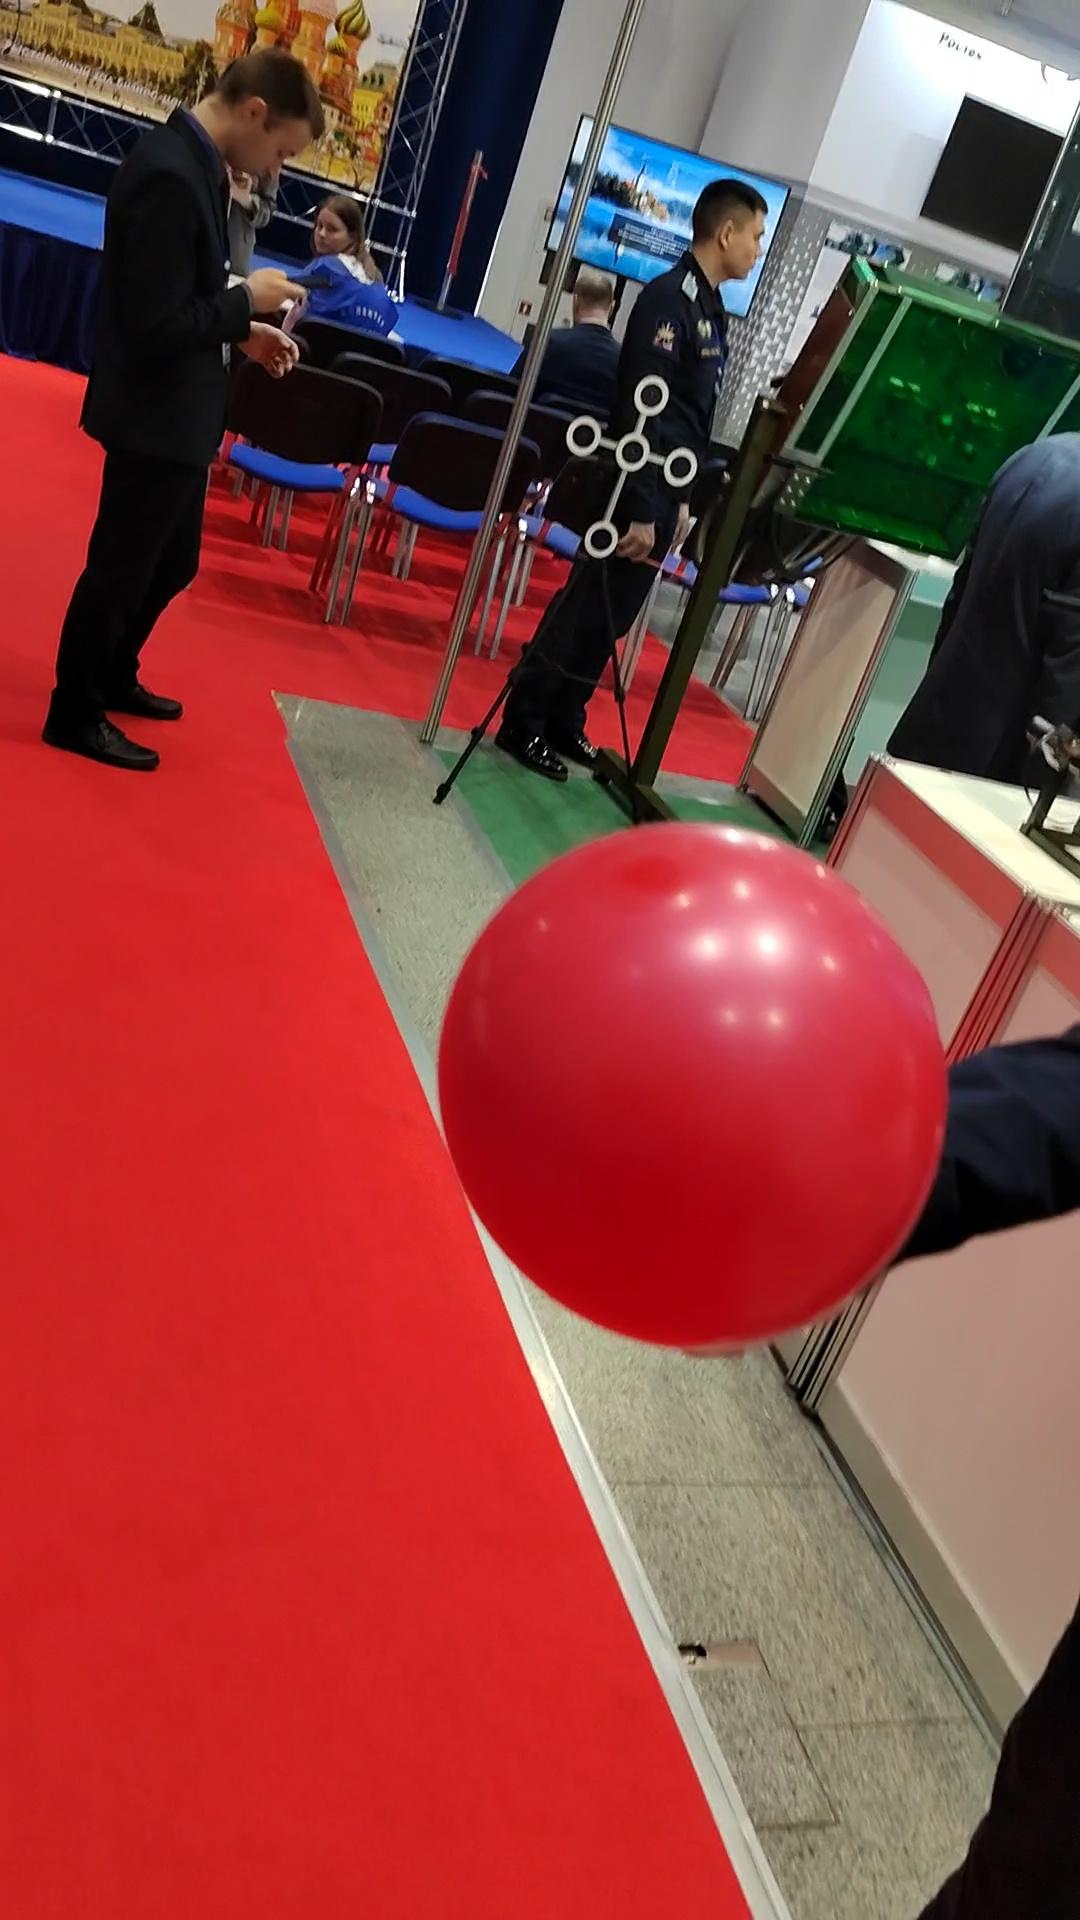red: (430, 816, 944, 1357)
